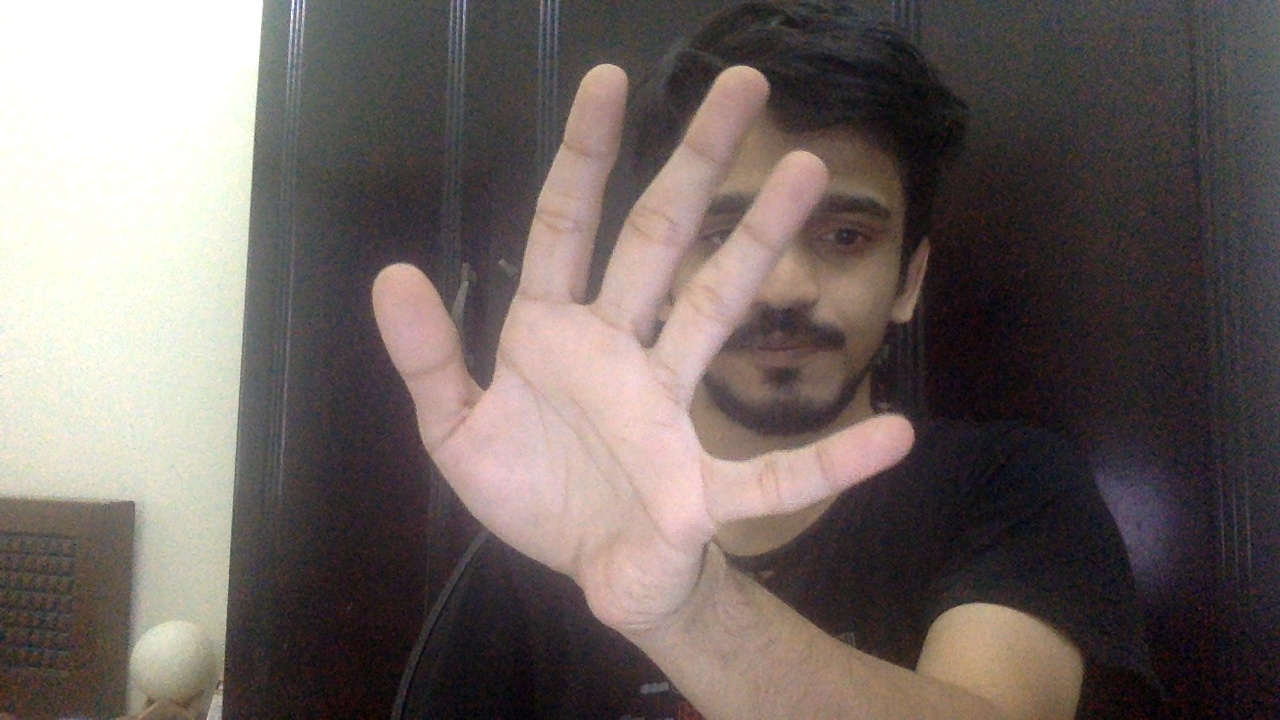stop: (371, 58, 914, 631)
